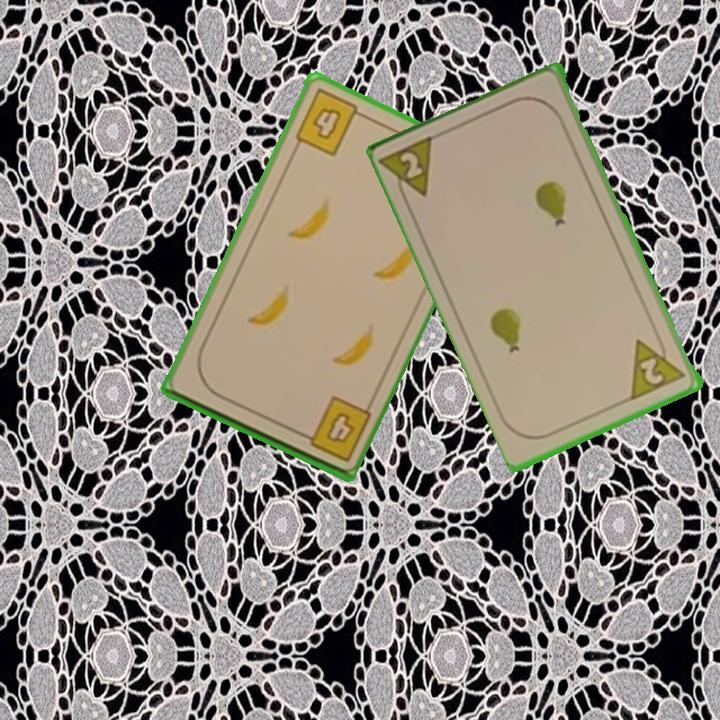2p: (379, 131, 440, 209), (627, 329, 689, 403)
4b: (294, 392, 374, 465), (291, 85, 369, 159)
